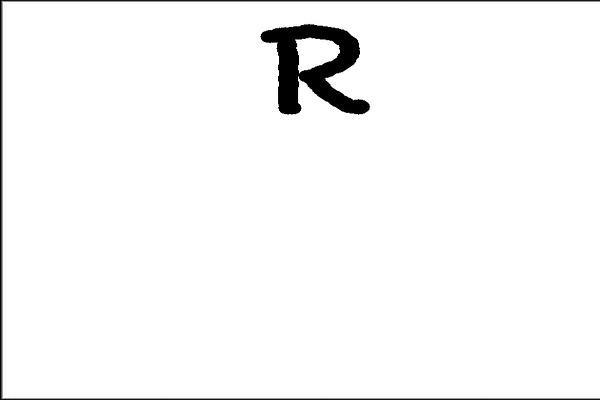R: (252, 16, 386, 129)
